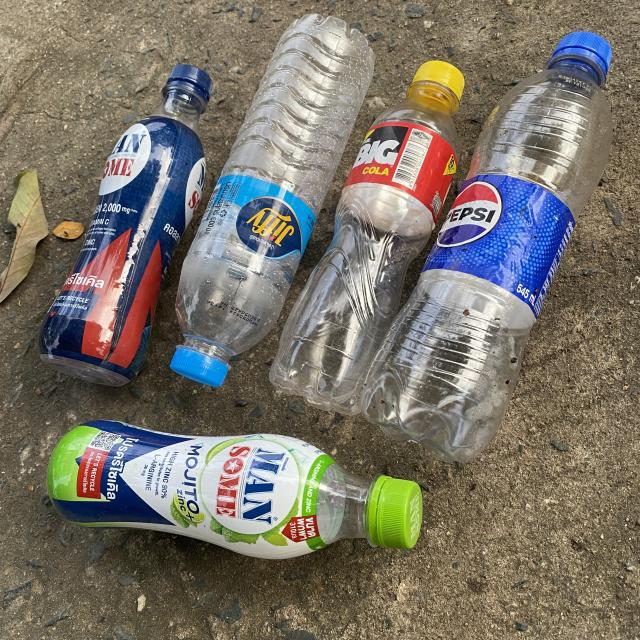plastik: (362, 32, 612, 461), (171, 14, 373, 387), (270, 61, 464, 415), (38, 65, 211, 387), (47, 420, 422, 559)
